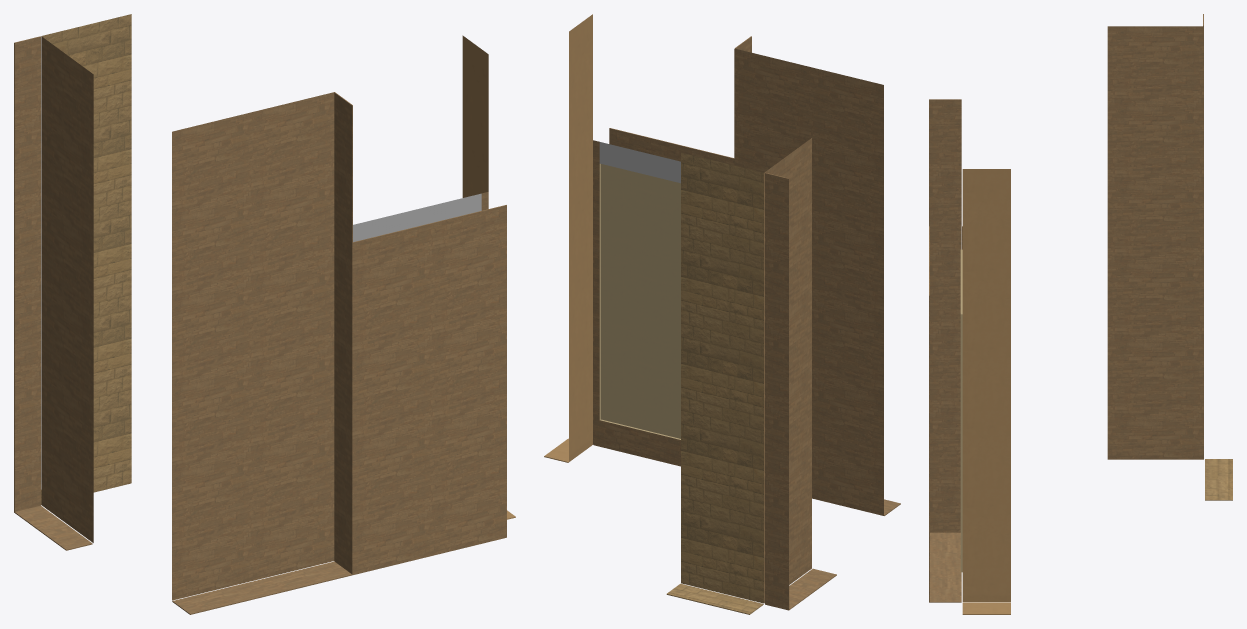
Rendered from unit-link-north-east.glb.
3 renders of one model, left to right at view 1: azimuth 30°, elevation 25°; view 2: azimuth 150°, elevation 25°; view 3: azimuth 270°, elevation 25°, orthographic. The views are drawn at different scales.
Parts seen in each view (by area): view 1: bz06_service_stone-cast, bz06_dressed_sandstone-cast, bz06_cream_plaster-cast, ph_bz04_stone_trim_sandstone-cast; view 2: bz06_service_stone-cast, bz06_dressed_sandstone-cast, bz06_pale_lime-cast, bz06_cream_plaster-cast, ph_bz04_stone_trim_sandstone-cast; view 3: bz06_service_stone-cast, bz06_cream_plaster-cast, bz06_dressed_sandstone-cast, bz06_pale_lime-cast.
Boxes of the visible parts, bbox=[...] form: bz06_service_stone-cast: bbox=[14, 36, 506, 614]; bz06_dressed_sandstone-cast: bbox=[41, 14, 131, 504]; bz06_cream_plaster-cast: bbox=[462, 35, 515, 519]; ph_bz04_stone_trim_sandstone-cast: bbox=[353, 193, 481, 241]; bz06_service_stone-cast: bbox=[593, 36, 900, 610]; bz06_dressed_sandstone-cast: bbox=[666, 152, 763, 614]; bz06_pale_lime-cast: bbox=[599, 163, 680, 439]; bz06_cream_plaster-cast: bbox=[544, 14, 592, 462]; ph_bz04_stone_trim_sandstone-cast: bbox=[599, 142, 680, 183]; bz06_service_stone-cast: bbox=[929, 14, 1203, 602]; bz06_cream_plaster-cast: bbox=[962, 169, 1010, 614]; bz06_dressed_sandstone-cast: bbox=[1205, 459, 1232, 500]; bz06_pale_lime-cast: bbox=[960, 249, 962, 572].
Size of the model in its own units: 8.2 by 9.92 by 6.3.
5 materials, 4 textured.
